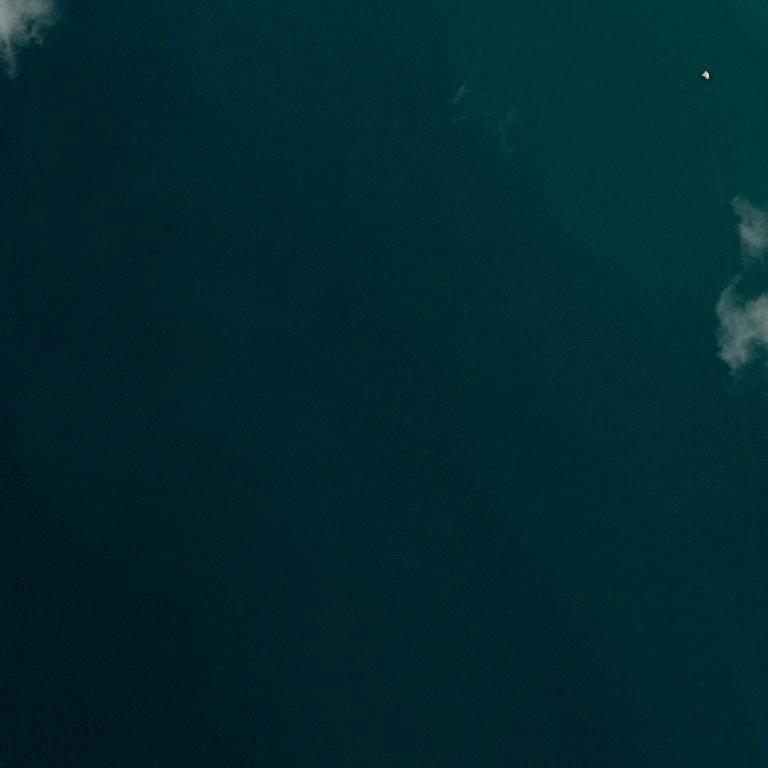ship: (703, 72, 711, 80)
